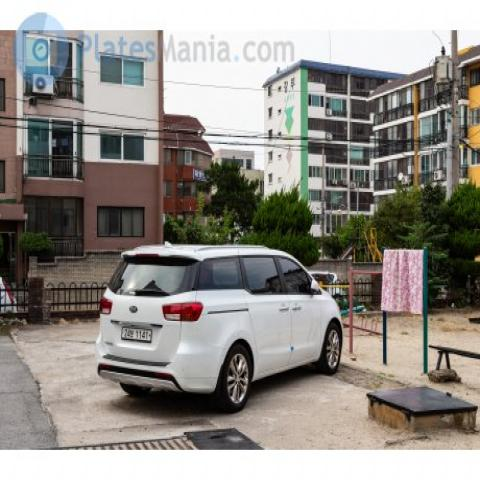LP: (119, 317, 157, 349)
